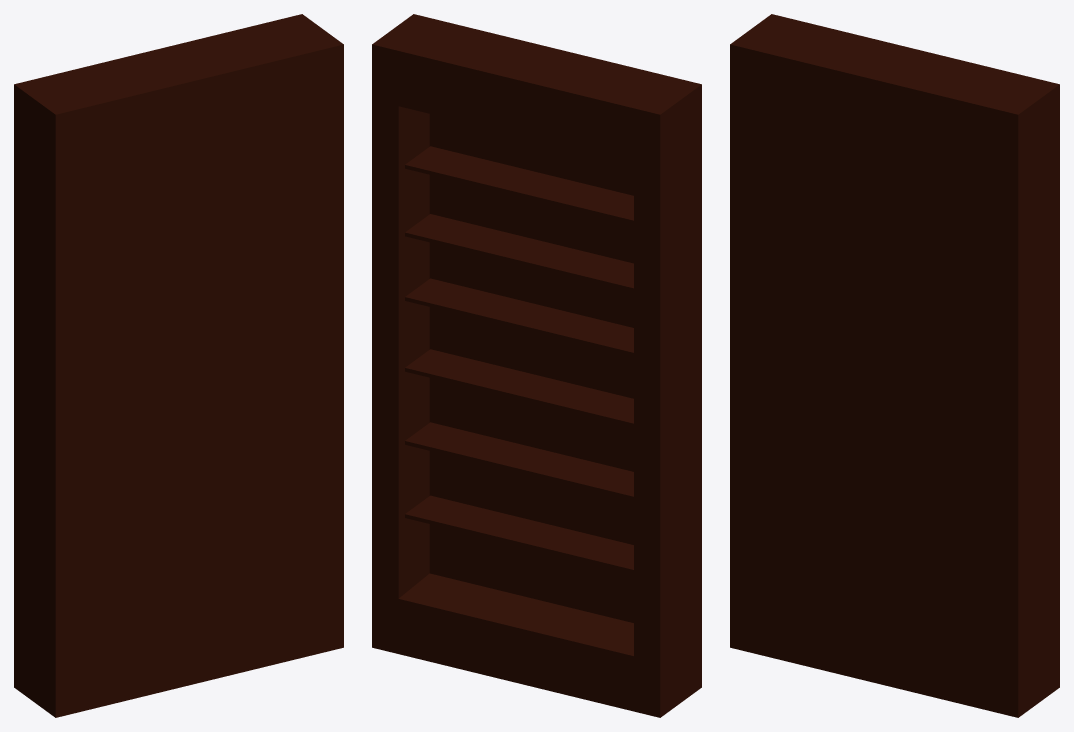
Rendered from finished_shelf.fbx.
The picture shows the model from 3 angles, left to right: view 1: azimuth 30°, elevation 25°; view 2: azimuth 150°, elevation 25°; view 3: azimuth 330°, elevation 25°; orthographic projection.
Visible parts, largest first — view 1: Cube; view 2: Cube, Cube.006, Cube.004, Cube.005, Cube.003, Cube.002, Cube.001; view 3: Cube.
Part boxes in pixels (box(x1,y1,x2,y2)): Cube: box(14, 14, 343, 717); Cube: box(372, 14, 701, 717); Cube.006: box(405, 146, 633, 224); Cube.004: box(405, 278, 633, 356); Cube.005: box(405, 214, 633, 291); Cube.003: box(405, 349, 633, 427); Cube.002: box(405, 422, 633, 500); Cube.001: box(405, 495, 633, 573); Cube: box(730, 14, 1059, 717).
Bounding box in the file's own units: 200 × 400 × 50.
